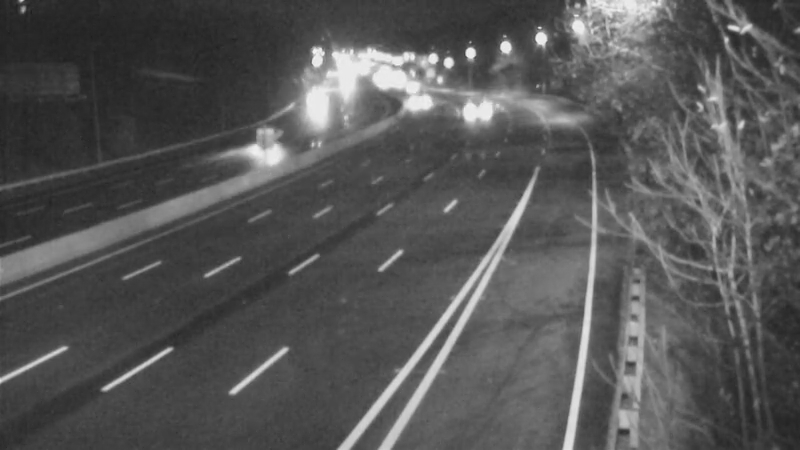vehicle: (385, 62, 435, 112), (394, 76, 444, 126), (442, 85, 492, 135), (224, 120, 274, 170), (286, 81, 336, 131)
